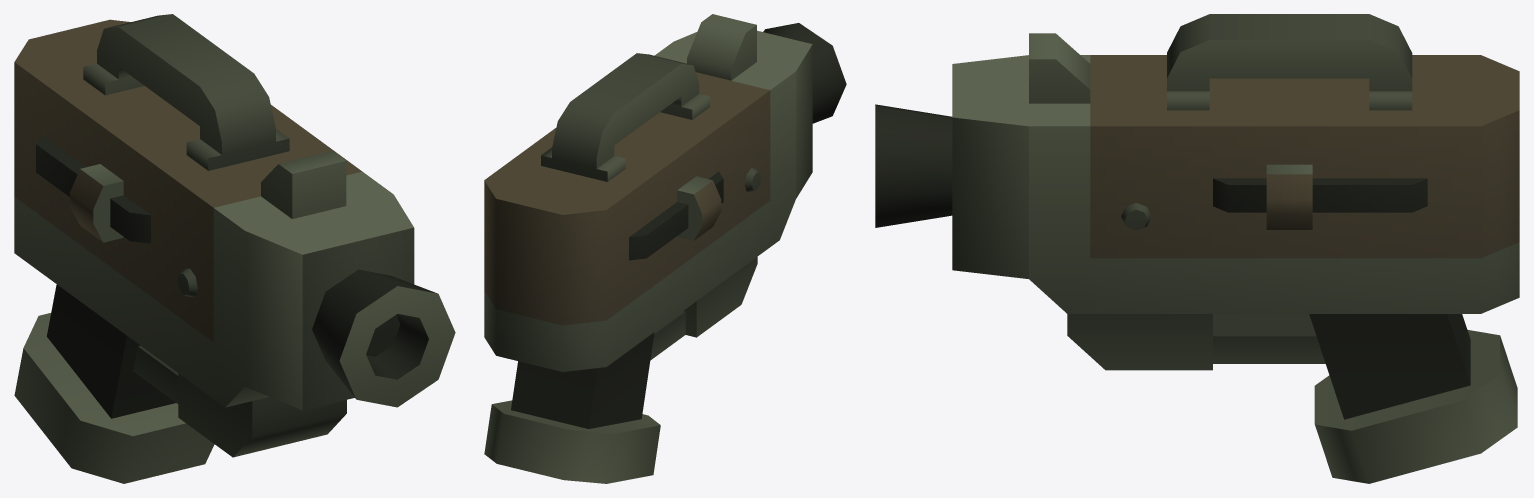
File: rockets.glb
3 views of the same model, side by side, from view 1: azimuth 30°, elevation 25°; view 2: azimuth 150°, elevation 25°; view 3: azimuth 270°, elevation 25° (orthographic). The views are drawn at different scales.
Parts seen in each view (by area): view 1: blaster-b; view 2: blaster-b; view 3: blaster-b.
Part boxes in pixels (x1,y1,x2,y2): blaster-b: (14,14,455,483); blaster-b: (484,14,846,483); blaster-b: (875,14,1519,483).
Size of the model in its own units: 0.369 by 0.7391 by 1.
Materials: 1 (1 with a texture image).
